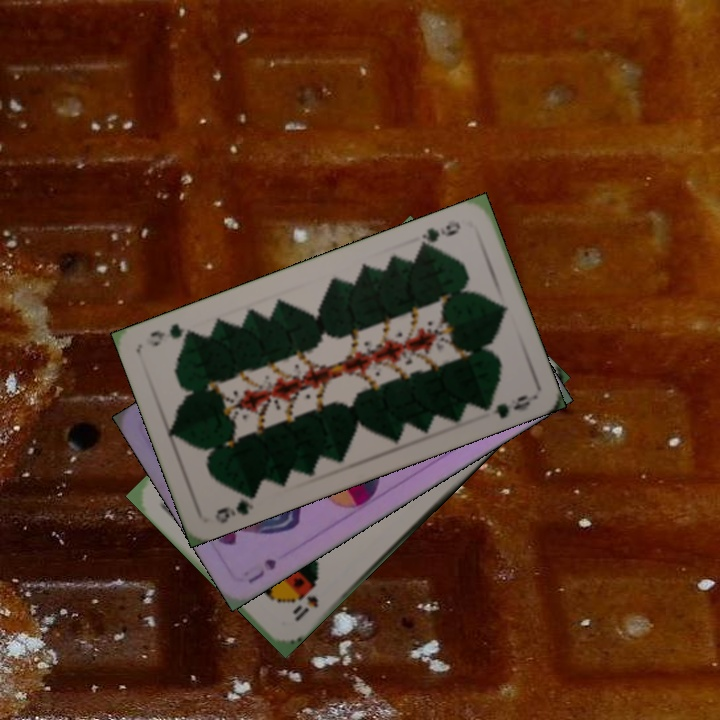G9: (210, 485, 260, 526), (415, 216, 463, 253)
SO: (288, 580, 321, 625)
SU: (244, 554, 279, 586)
